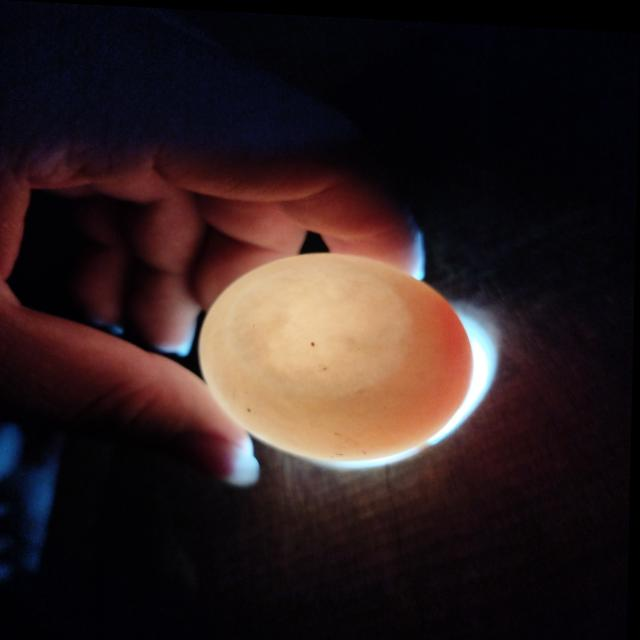Camara de Ar: (225, 261, 415, 394)
